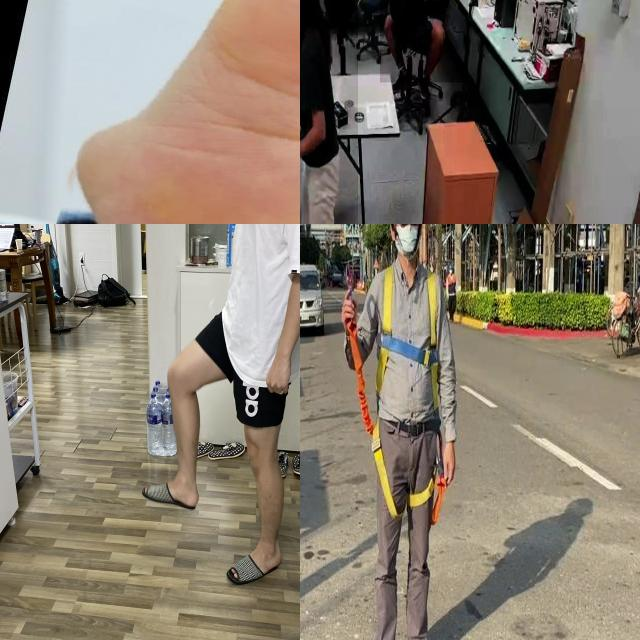Barefoots: (0, 0, 300, 224)
Harness: (349, 327, 447, 526), (378, 266, 438, 410)
Sandals: (225, 536, 292, 584), (142, 464, 200, 512)
person: (300, 0, 358, 224), (379, 0, 468, 83)
